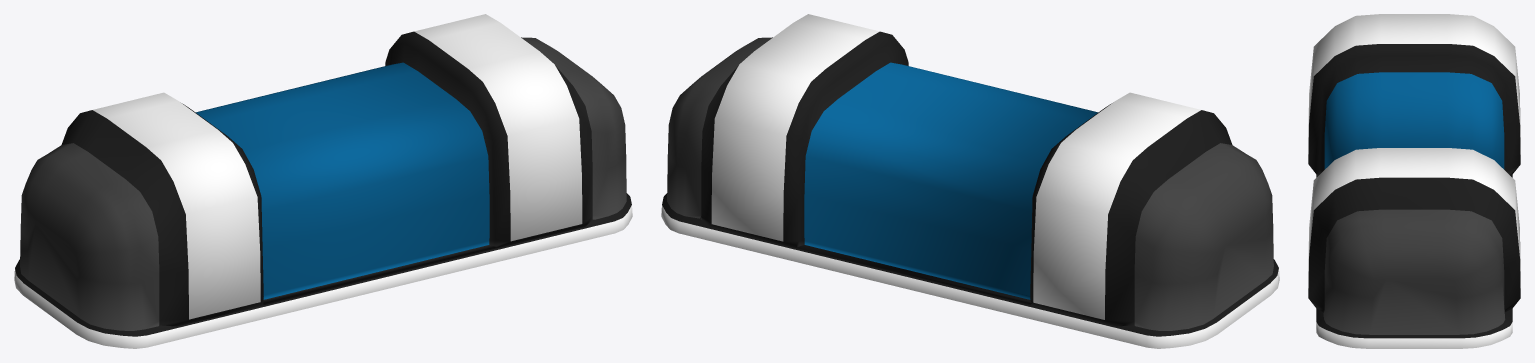
The model's file is AccentNote.fbx.
3 renders of one model, left to right at view 1: azimuth 30°, elevation 25°; view 2: azimuth 150°, elevation 25°; view 3: azimuth 270°, elevation 25°, orthographic. The views are drawn at different scales.
Visible parts, largest first — view 1: Cube.001; view 2: Cube.001; view 3: Cube.001.
Boxes of the visible parts, <box> form: Cube.001: <box>14,14,632,348</box>; Cube.001: <box>661,14,1279,348</box>; Cube.001: <box>1308,14,1520,348</box>.
Size of the model in its own units: 64.45 by 18.38 by 25.4.
